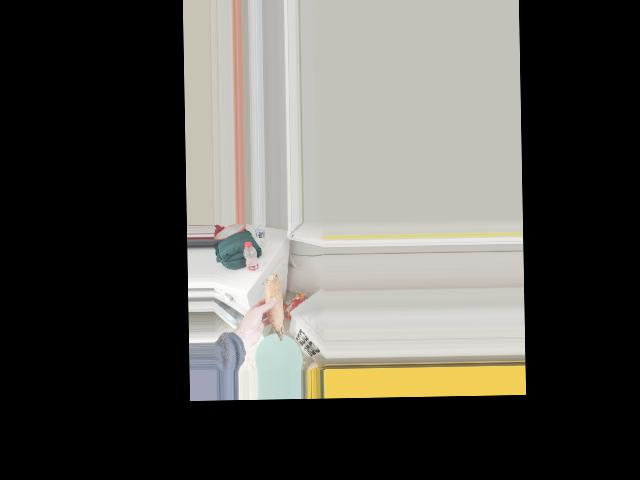sweet_potato: (259, 270, 288, 342)
